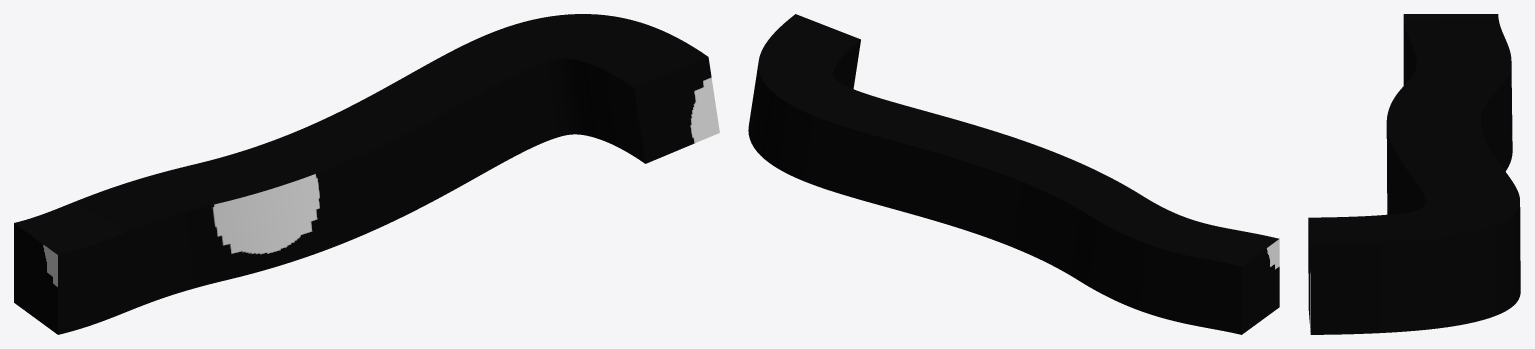
File: ISLE0_SLOPE.fbx
The picture shows the model from 3 angles, left to right: view 1: azimuth 30°, elevation 25°; view 2: azimuth 150°, elevation 25°; view 3: azimuth 270°, elevation 25°; orthographic projection. The views are drawn at different scales.
Parts seen in each view (by area): view 1: ISLE0_SLOPE; view 2: ISLE0_SLOPE; view 3: ISLE0_SLOPE.
Boxes of the visible parts, <box> form: ISLE0_SLOPE: <box>14,14,719,334</box>; ISLE0_SLOPE: <box>748,14,1279,334</box>; ISLE0_SLOPE: <box>1308,14,1520,334</box>.
Bounding box in the file's own units: 34.42 × 8.6 × 9.53.
